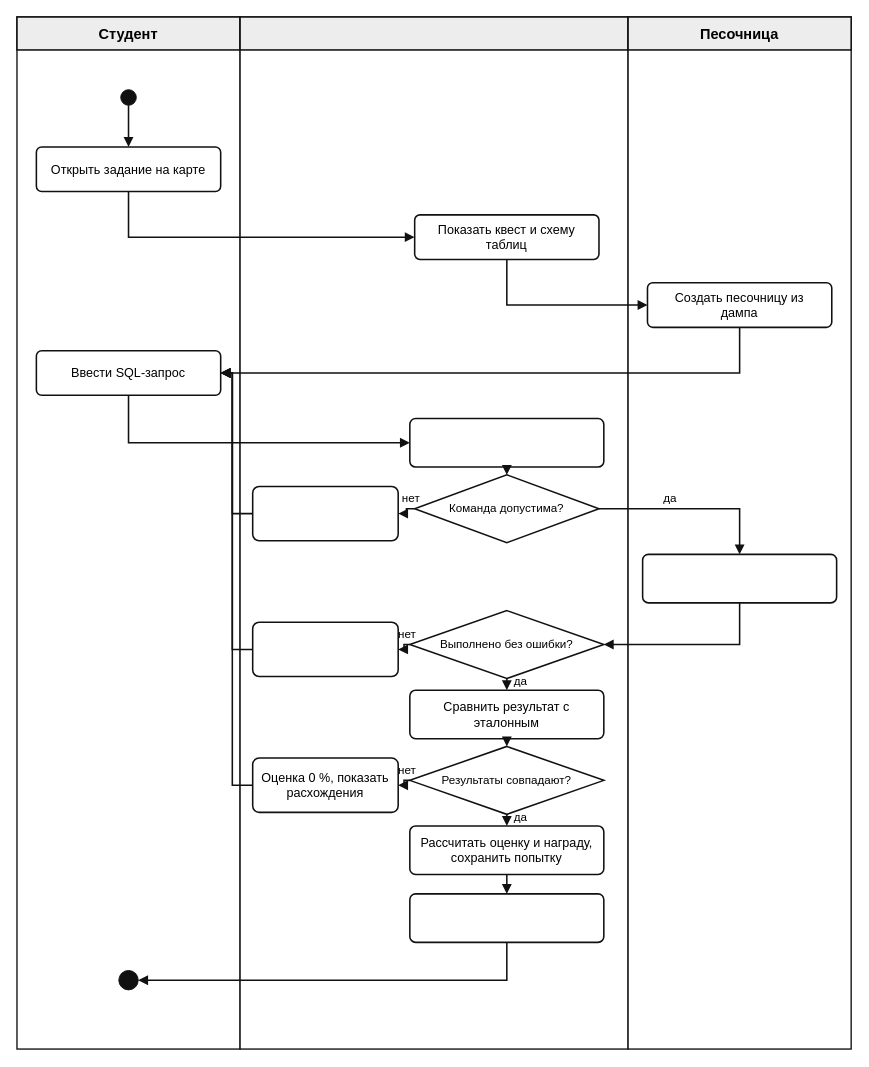
This 869x1067 diagram has some shape labels left out. Here are the shapes that lost their labels. From the top down, the box of each, then its label:
(239, 16, 628, 50): Система
(409, 417, 604, 467): Автосохранить черновик, принять запрос
(251, 485, 398, 541): Сообщить о запрещённой команде
(641, 553, 837, 603): Выполнить запрос в режиме чтения
(251, 621, 398, 677): Показать подсказку по ошибке
(409, 893, 604, 943): Подсветить объекты, обновить ресурсы
